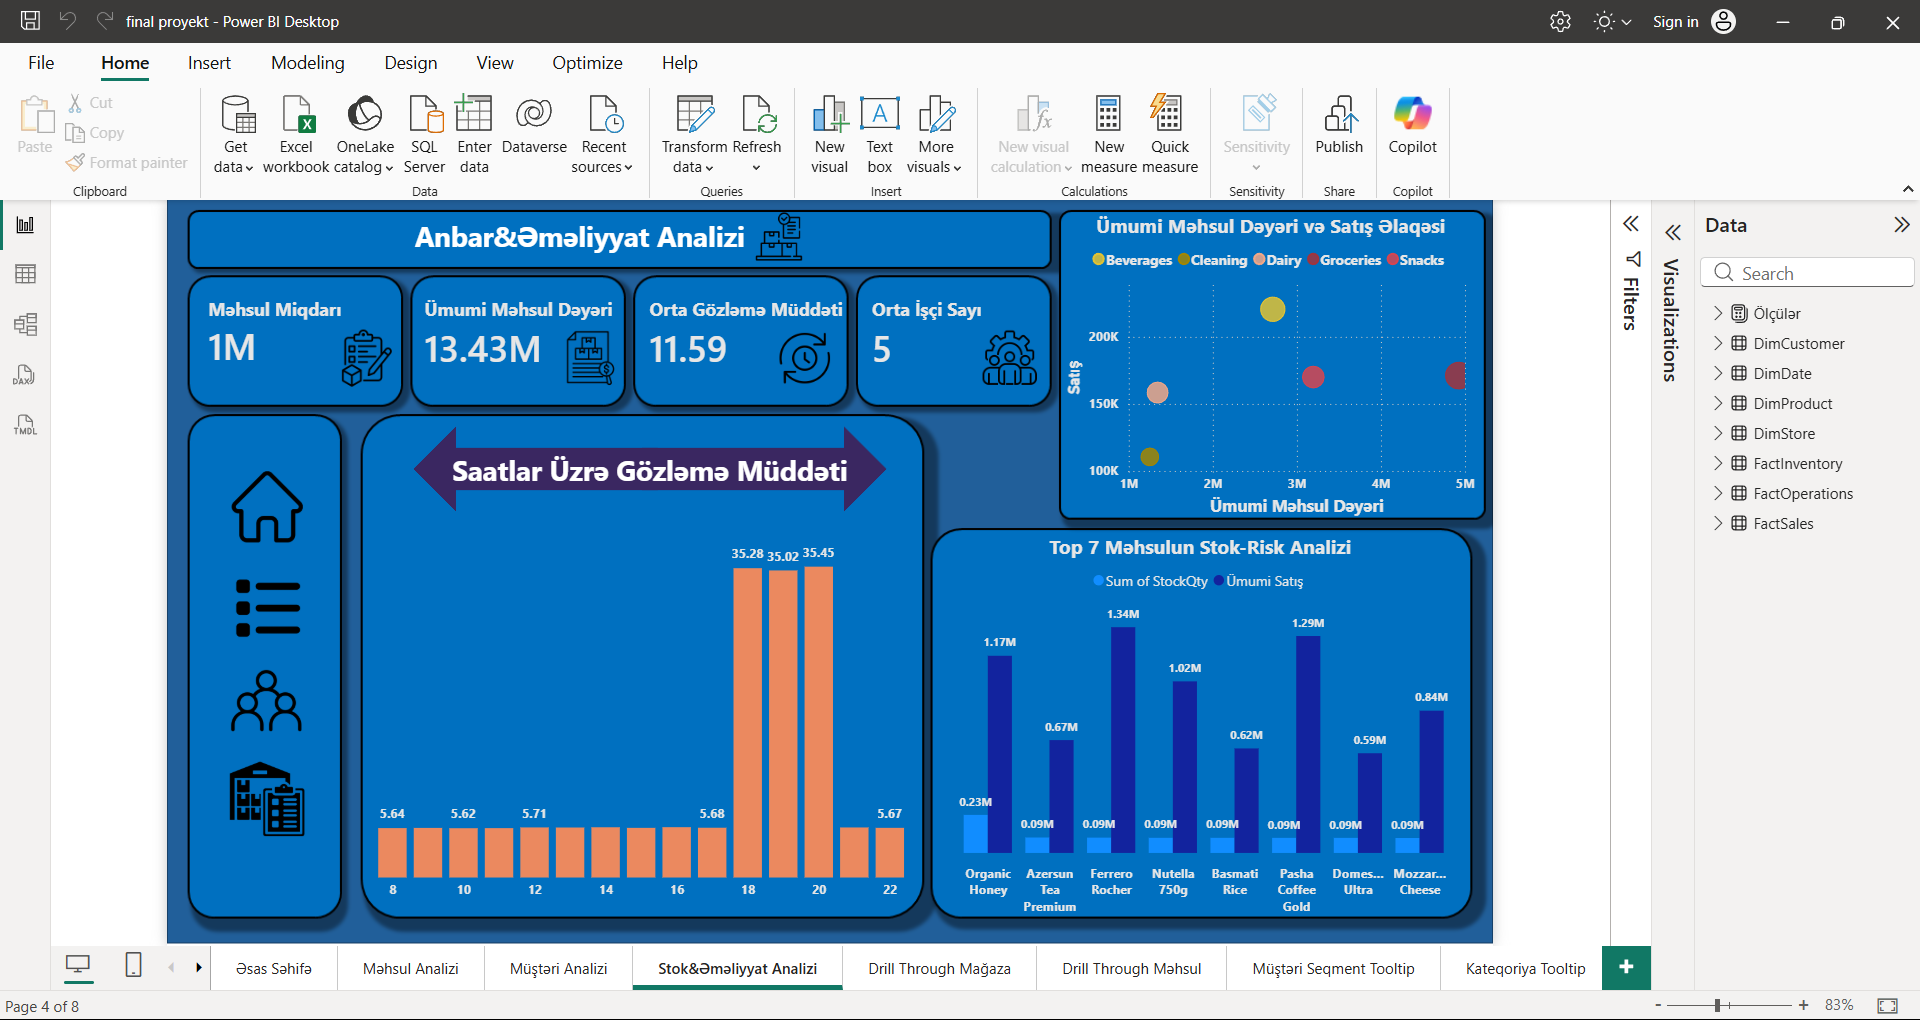

The page's visual inventory and layout, read from the dashboard file:
{"tool":"powerbi","page":{"name":"Stok&Əməliyyat Analizi","canvas":[1280,720],"ordinal":3},"visuals":[{"type":"image","box":[57.5,537.5,77.5,80],"z":0},{"type":"cardVisual","title":"İnventar ","fields":{"Data":["Ölçülər.İnventar Miqdarı"]},"box":[10.9,74.8,199.1,107.4],"z":2000},{"type":"cardVisual","fields":{"Data":["Ölçülər.İnventar Dəyəri"]},"box":[220,55,253.8,148.8],"z":3000},{"type":"cardVisual","fields":{"Data":["Ölçülər.Orta Gözləmə Müddəti"]},"box":[436.7,55.5,246.1,148.4],"z":4000},{"type":"cardVisual","fields":{"Data":["Ölçülər.Orta İşçi Sayı"]},"box":[651.2,55,215,148.8],"z":5000},{"type":"image","box":[165,121.2,55,61.2],"z":6000},{"type":"image","box":[381.2,121.2,55,61.2],"z":7000},{"type":"image","box":[591.2,121.2,48.8,61.2],"z":8000},{"type":"image","box":[785,121.2,56.2,61.2],"z":9000},{"type":"clusteredColumnChart","title":"Saatlar Üzrə Gözləmə Müddəti","fields":{"Category":["FactOperations.Hour"],"Y":["Ölçülər.Orta Gözləmə Müddəti"]},"box":[198.8,301.2,517.5,382.5],"z":10000},{"type":"scatterChart","title":"Ümumi Məhsul Dəyəri və Satış Əlaqəsi","fields":{"X":["Ölçülər.İnventar Dəyəri"],"Y":["Sum(FactSales.Quantity)"],"Size":["Sum(FactInventory.StockQty)"],"Series":["DimProduct.Category"]},"box":[863,12.1,405.4,298],"z":11000},{"type":"clusteredColumnChart","title":"Top 7 Məhsulun Stok-Risk Analizi","fields":{"Category":["DimProduct.ProductName"],"Y":["Sum(FactInventory.StockQty)","Ölçülər.Ümumi Satış"]},"box":[732.5,322.5,530,375],"z":12000},{"type":"shape","box":[458.8,218.8,236.2,82.5],"z":13000},{"type":"shape","box":[237.5,218.8,236.2,82.5],"z":14000},{"type":"textbox","box":[270,237.5,406.2,46.2],"z":15000},{"type":"textbox","box":[233.8,12.5,406.2,46.2],"z":16000},{"type":"image","box":[53.8,261.2,85,68.8],"z":17000},{"type":"image","box":[53.8,360,86.2,68.8],"z":18000},{"type":"image","box":[56.2,448.8,78.8,68.8],"z":19000},{"type":"actionButton","box":[53.8,260,81.2,70],"z":20000},{"type":"actionButton","box":[53.8,358.8,81.2,70],"z":21000},{"type":"actionButton","box":[53.8,448.8,81.2,70],"z":22000},{"type":"actionButton","box":[53.8,542.5,81.2,75],"z":23000},{"type":"image","box":[555,12.5,71.2,46.2],"z":24000}]}

Visuals, with their boxes on the page's 1280x720 design canvas (x1, y1, x2, y2). These are canvas units, not pixel positions in the 1920x1020 screenshot, which may show the page scaled, cropped or inside an application window:
image: box(58, 538, 135, 618)
"İnventar " cardVisual: box(11, 75, 210, 182)
cardVisual - Ölçülər.İnventar Dəyəri: box(220, 55, 474, 204)
cardVisual - Ölçülər.Orta Gözləmə Müddəti: box(437, 56, 683, 204)
cardVisual - Ölçülər.Orta İşçi Sayı: box(651, 55, 866, 204)
image: box(165, 121, 220, 182)
image: box(381, 121, 436, 182)
image: box(591, 121, 640, 182)
image: box(785, 121, 841, 182)
"Saatlar Üzrə Gözləmə Müddəti" clusteredColumnChart: box(199, 301, 716, 684)
"Ümumi Məhsul Dəyəri və Satış Əlaqəsi" scatterChart: box(863, 12, 1268, 310)
"Top 7 Məhsulun Stok-Risk Analizi" clusteredColumnChart: box(732, 322, 1262, 698)
shape: box(459, 219, 695, 301)
shape: box(238, 219, 474, 301)
textbox: box(270, 238, 676, 284)
textbox: box(234, 12, 640, 59)
image: box(54, 261, 139, 330)
image: box(54, 360, 140, 429)
image: box(56, 449, 135, 518)
actionButton: box(54, 260, 135, 330)
actionButton: box(54, 359, 135, 429)
actionButton: box(54, 449, 135, 519)
actionButton: box(54, 542, 135, 618)
image: box(555, 12, 626, 59)
